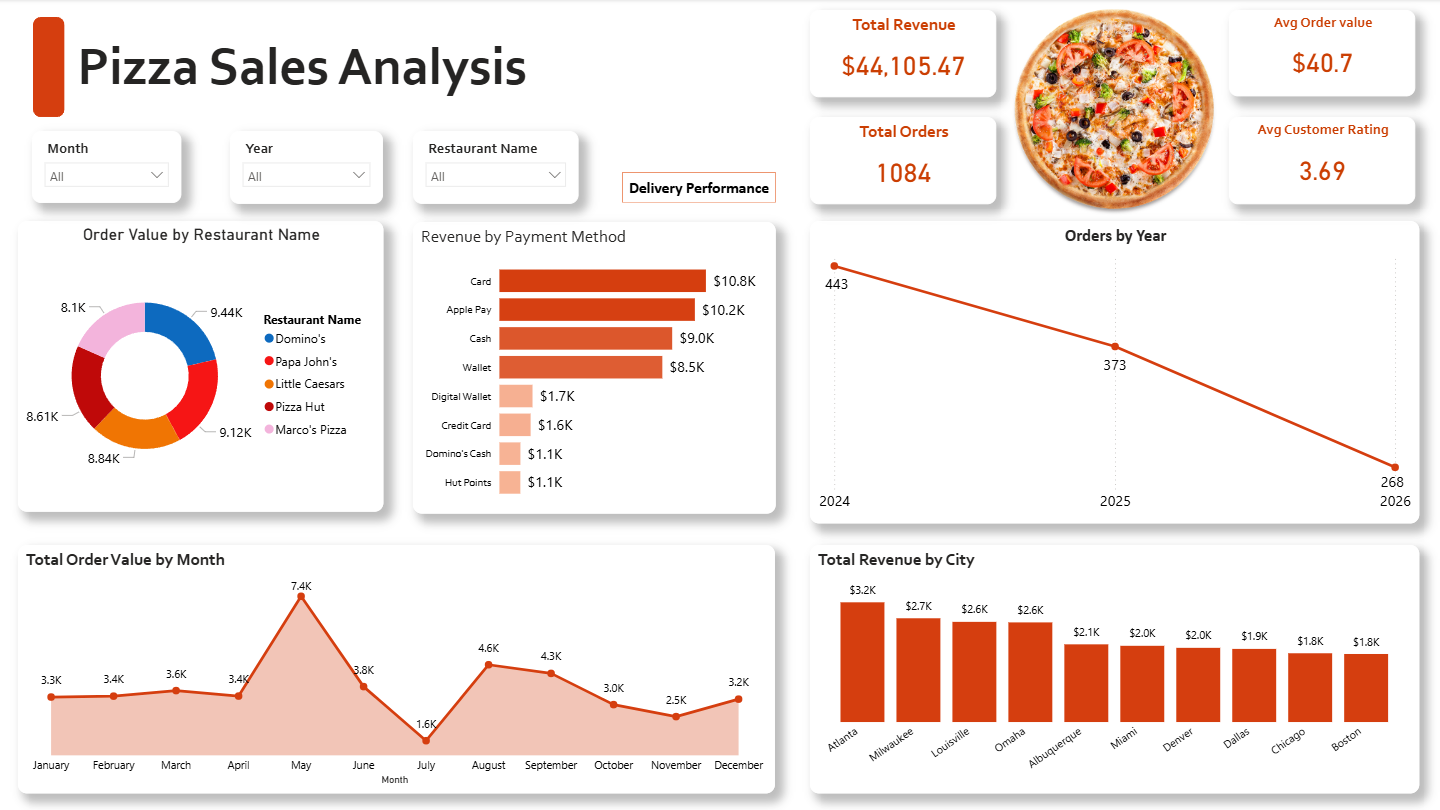

The dashboard page shown, as its layout file describes it:
{"tool":"powerbi","page":{"name":"Home page","canvas":[1600,900],"ordinal":0},"visuals":[{"type":"card","title":"Total Revenue","fields":{"Values":["Pizza_delivery.Total Revenue"]},"box":[900,11.4,207.1,97.1],"z":0},{"type":"card","title":"Total Orders","fields":{"Values":["_measures.Total Orders"]},"box":[900,130,207.1,97.1],"z":1000},{"type":"card","title":"Avg Order value","fields":{"Values":["_measures.Avg Order Value"]},"box":[1365.7,11.4,207.1,95.7],"z":2000},{"type":"card","title":"Avg Customer Rating","fields":{"Values":["_measures.Avg Customer Rating"]},"box":[1365.7,130,207.1,97.1],"z":3000},{"type":"lineChart","title":"Orders by Year","fields":{"Category":["Pizza_delivery.Delivery Time.Variation.Date Hierarchy.Year"],"Y":["CountNonNull(Pizza_delivery.Order ID)"]},"box":[900,245.7,677.1,335.7],"z":4000},{"type":"donutChart","title":"Order Value  by Restaurant Name","fields":{"Category":["Pizza_delivery.Restaurant Name"],"Y":["Sum(Pizza_delivery.Order Value (USD))"]},"box":[20,245.7,405.7,322.9],"z":5000},{"type":"slicer","fields":{"Values":["Pizza_delivery.Restaurant Name"]},"box":[458.6,145.7,184.3,81.4],"z":6000},{"type":"slicer","fields":{"Values":["Pizza_delivery.Order Time.Variation.Date Hierarchy.Month"]},"box":[35.7,145.7,165.7,80],"z":7000},{"type":"slicer","fields":{"Values":["Pizza_delivery.Date.Variation.Date Hierarchy.Year"]},"box":[255.7,145.7,170,81.4],"z":8000},{"type":"lineChart","title":"Total Order Value by Month","fields":{"Category":["Pizza_delivery.Delivery Time.Variation.Date Hierarchy.Month"],"Y":["Sum(Pizza_delivery.Order Value (USD))"]},"box":[20,605.7,841.4,275.7],"z":9000},{"type":"columnChart","fields":{"Category":["Pizza_delivery.City"],"Y":["_measures.Total Revenue"]},"box":[900,605.7,677.1,275.7],"z":10000},{"type":"image","box":[1052.9,1.4,370,238.6],"z":11000},{"type":"shape","box":[36.2,18.8,35,111.2],"z":12000},{"type":"textbox","box":[81.2,32.5,537.5,85],"z":13000},{"type":"clusteredBarChart","title":"Revenue by Payment Method","fields":{"Category":["Pizza_delivery.Payment Method"],"Y":["_measures.Total Revenue"]},"box":[458.6,247.1,402.9,324.3],"z":14000},{"type":"actionButton","title":"Delivery Performance","box":[691.1,191.1,171.1,34.4],"z":15000}]}

Visuals, with their boxes in screenshot pixels (x1, y1, x2, y2), scaled from the page's 1600x900 canvas onto the 1440x810 screenshot:
"Total Revenue" card: (left=810, top=10, right=996, bottom=98)
"Total Orders" card: (left=810, top=117, right=996, bottom=204)
"Avg Order value" card: (left=1229, top=10, right=1416, bottom=96)
"Avg Customer Rating" card: (left=1229, top=117, right=1416, bottom=204)
"Orders by Year" lineChart: (left=810, top=221, right=1419, bottom=523)
"Order Value  by Restaurant Name" donutChart: (left=18, top=221, right=383, bottom=512)
slicer - Pizza_delivery.Restaurant Name: (left=413, top=131, right=579, bottom=204)
slicer - Pizza_delivery.Order Time.Variation.Date Hierarchy.Month: (left=32, top=131, right=181, bottom=203)
slicer - Pizza_delivery.Date.Variation.Date Hierarchy.Year: (left=230, top=131, right=383, bottom=204)
"Total Order Value by Month" lineChart: (left=18, top=545, right=775, bottom=793)
columnChart - Pizza_delivery.City x _measures.Total Revenue: (left=810, top=545, right=1419, bottom=793)
image: (left=948, top=1, right=1281, bottom=216)
shape: (left=33, top=17, right=64, bottom=117)
textbox: (left=73, top=29, right=557, bottom=106)
"Revenue by Payment Method" clusteredBarChart: (left=413, top=222, right=775, bottom=514)
"Delivery Performance" actionButton: (left=622, top=172, right=776, bottom=203)
